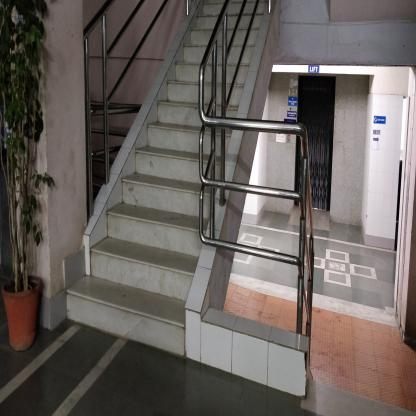stairs: (115, 196, 177, 361)
